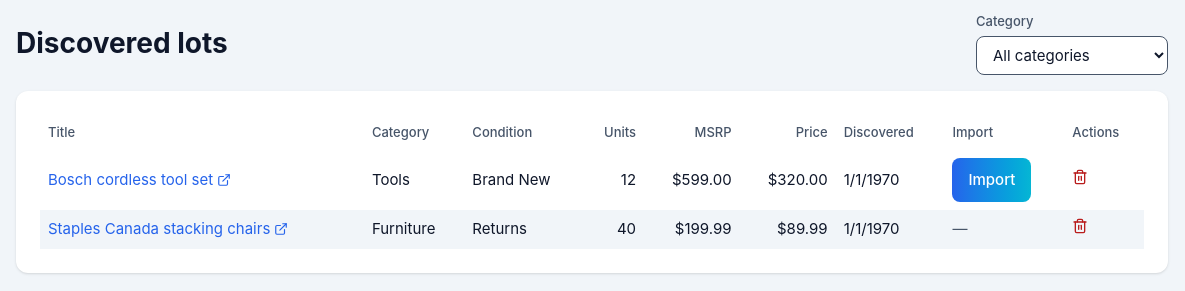
Test case: DiscoveredLotsPage › filters by category
Select "Furniture" in the dropdown labelled "Category". click: (1072, 55)
box: x1=976 y1=36 x2=1168 y2=74
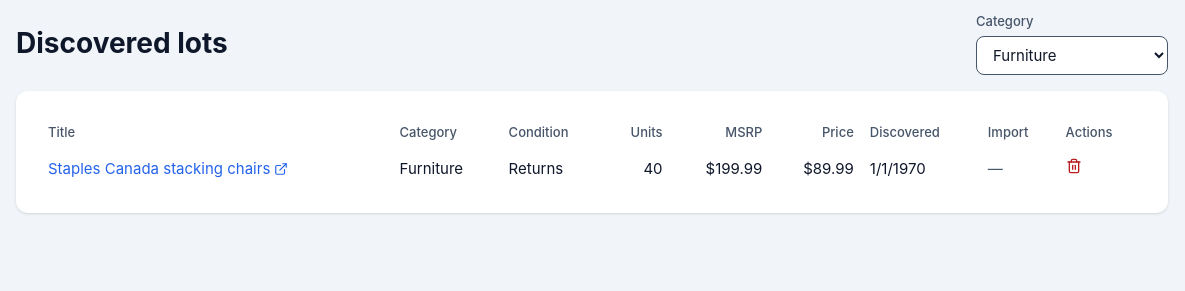
Check: the link "Staples Canada stacking chairs" is shown, box x1=48 y1=158 x2=288 y2=180
Check: the link "Bosch cordless tool set" is gone
